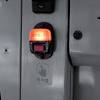bell: (27, 22, 58, 61)
